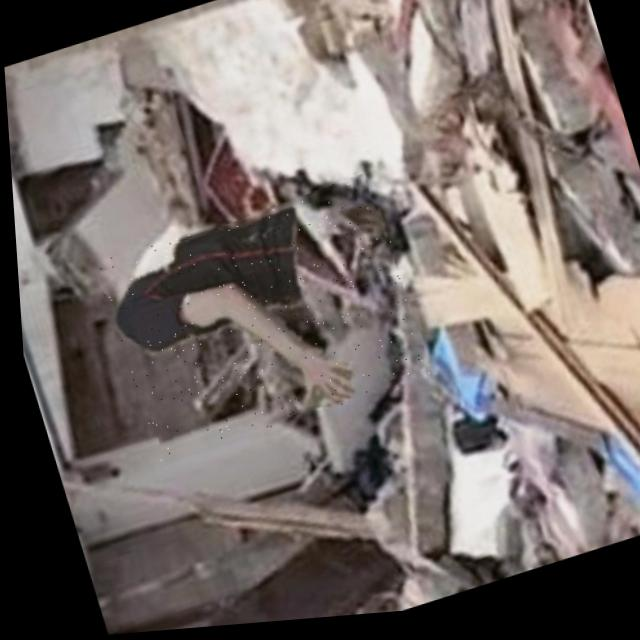Person in Rubble: (90, 177, 429, 466)
